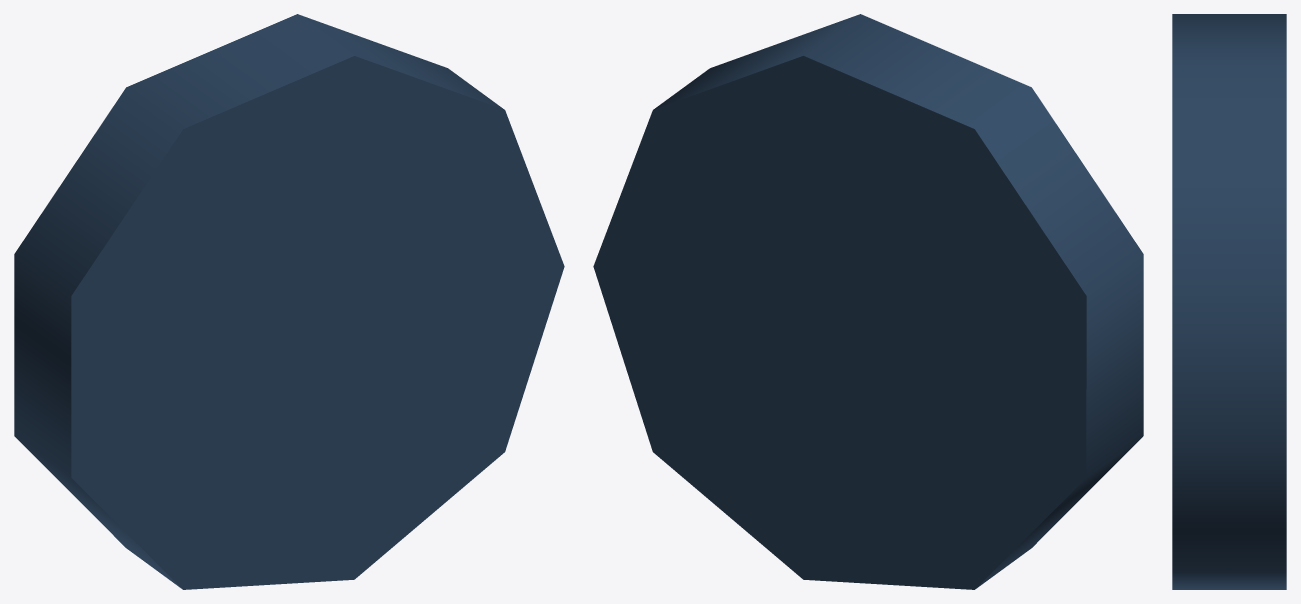
Rendered from dog_collar_verA.FBX.
3 renders of one model, left to right at view 1: azimuth 30°, elevation 25°; view 2: azimuth 150°, elevation 25°; view 3: azimuth 270°, elevation 25°, orthographic.
Parts seen in each view (by area): view 1: collar; view 2: collar; view 3: collar.
Part boxes in pixels (<box>): collar: <box>14,14,564,589</box>; collar: <box>593,14,1143,589</box>; collar: <box>1172,14,1286,589</box>.
Bounding box in the file's own units: 47.36 × 48.09 × 9.51.
